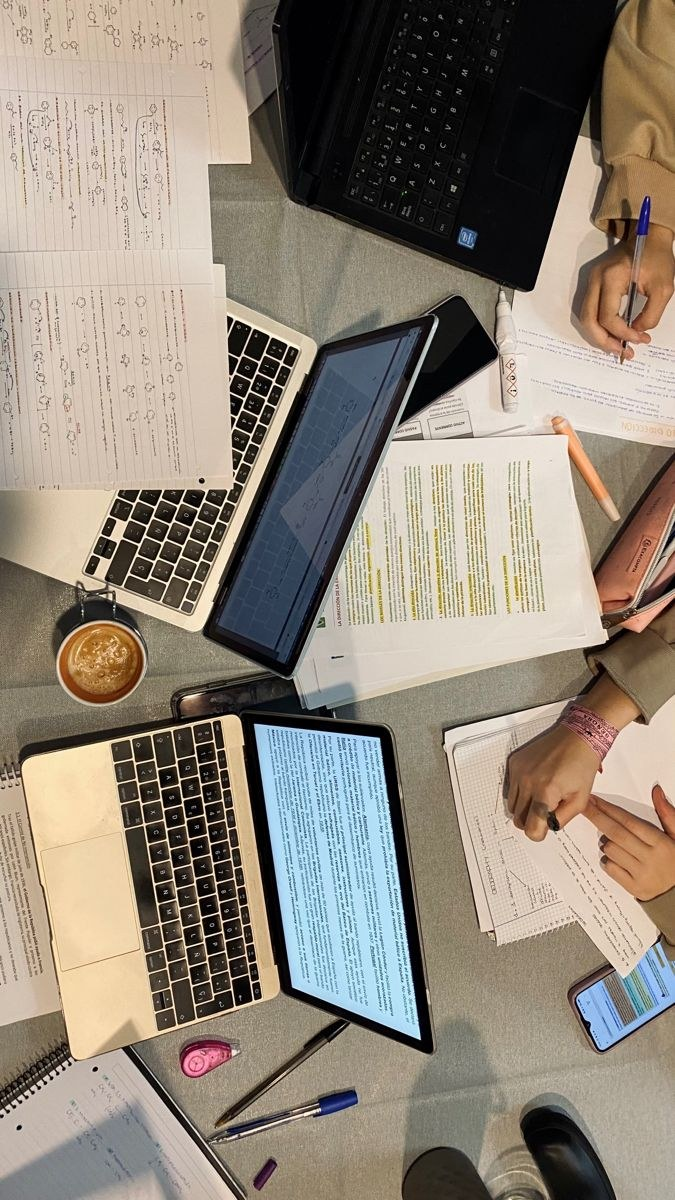cell phone: (395, 293, 499, 428), (566, 933, 674, 1054)
laptop: (1, 293, 437, 678), (18, 709, 435, 1063), (270, 1, 619, 292)
